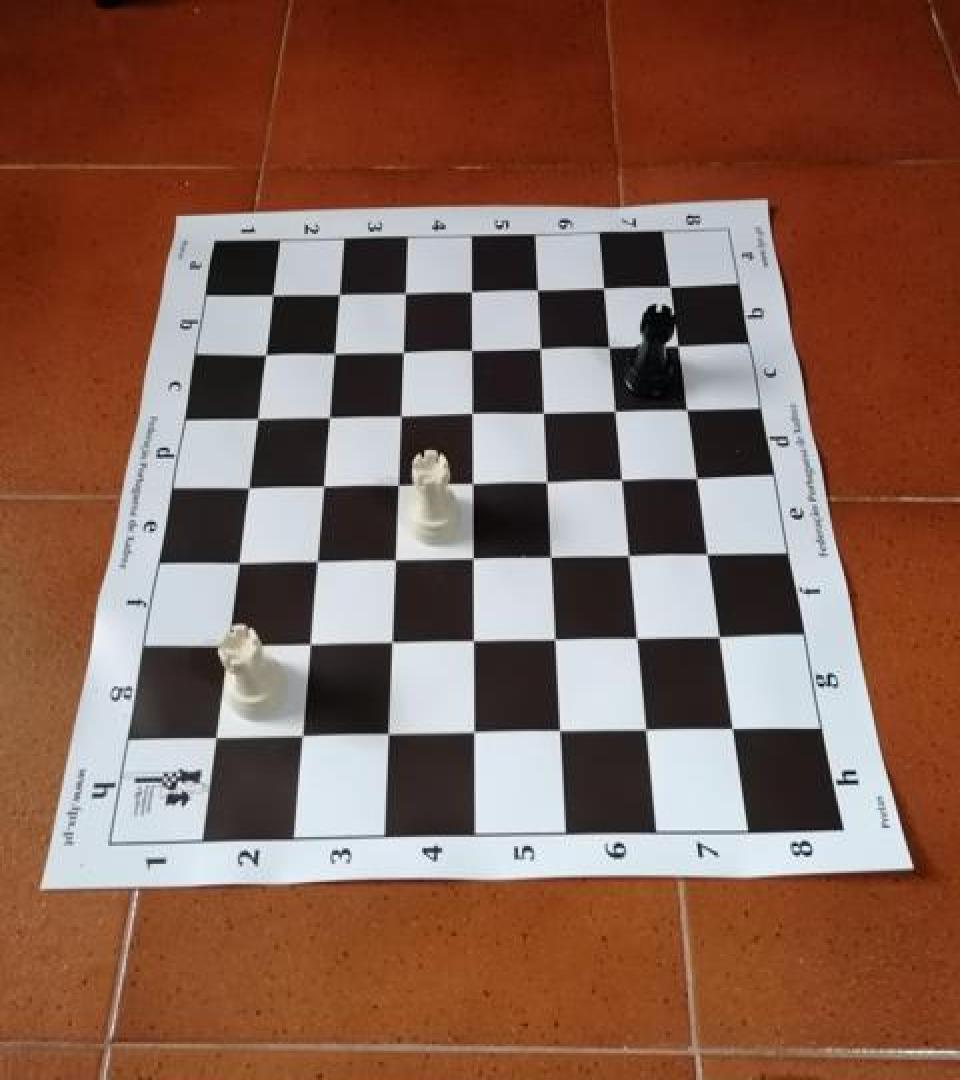xcorner: (656, 266, 686, 300), (589, 268, 619, 302), (523, 270, 553, 304), (456, 272, 486, 306), (390, 273, 420, 307), (258, 278, 288, 312), (665, 325, 695, 359), (595, 327, 625, 361), (456, 330, 486, 364), (387, 333, 417, 367), (318, 334, 348, 368), (250, 336, 280, 370), (674, 389, 704, 423), (601, 392, 631, 426), (529, 394, 559, 428), (457, 395, 487, 429), (385, 397, 415, 431), (313, 399, 343, 433), (241, 400, 271, 434), (684, 459, 714, 493), (608, 461, 638, 495), (532, 464, 562, 498), (382, 467, 412, 501), (307, 469, 337, 503), (232, 470, 262, 504), (694, 536, 724, 570), (615, 538, 645, 572), (536, 540, 566, 574), (457, 541, 487, 575), (378, 543, 408, 577), (300, 544, 330, 578), (222, 546, 252, 580), (706, 620, 736, 654), (623, 621, 653, 655), (540, 623, 570, 657), (457, 626, 487, 660), (375, 626, 405, 660), (292, 629, 322, 663), (210, 630, 240, 664), (719, 712, 749, 746), (632, 714, 662, 748), (457, 718, 487, 752), (371, 719, 401, 753), (284, 721, 314, 755), (198, 722, 228, 756), (324, 276, 354, 309), (526, 329, 556, 362), (457, 465, 487, 498), (544, 716, 574, 749)
